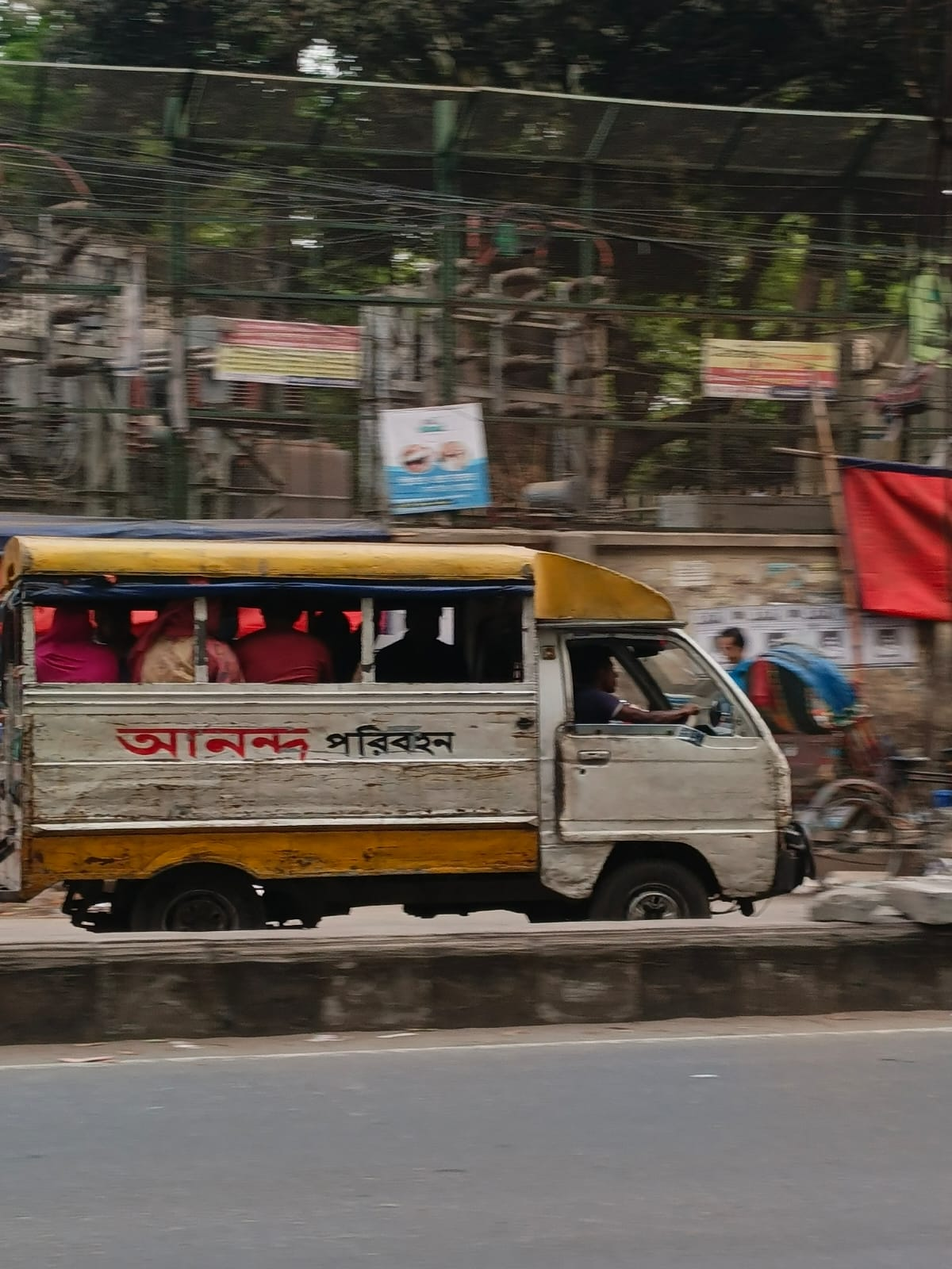Leguna: (3, 466, 846, 1005)
auto-ricksaw: (756, 556, 952, 896)
